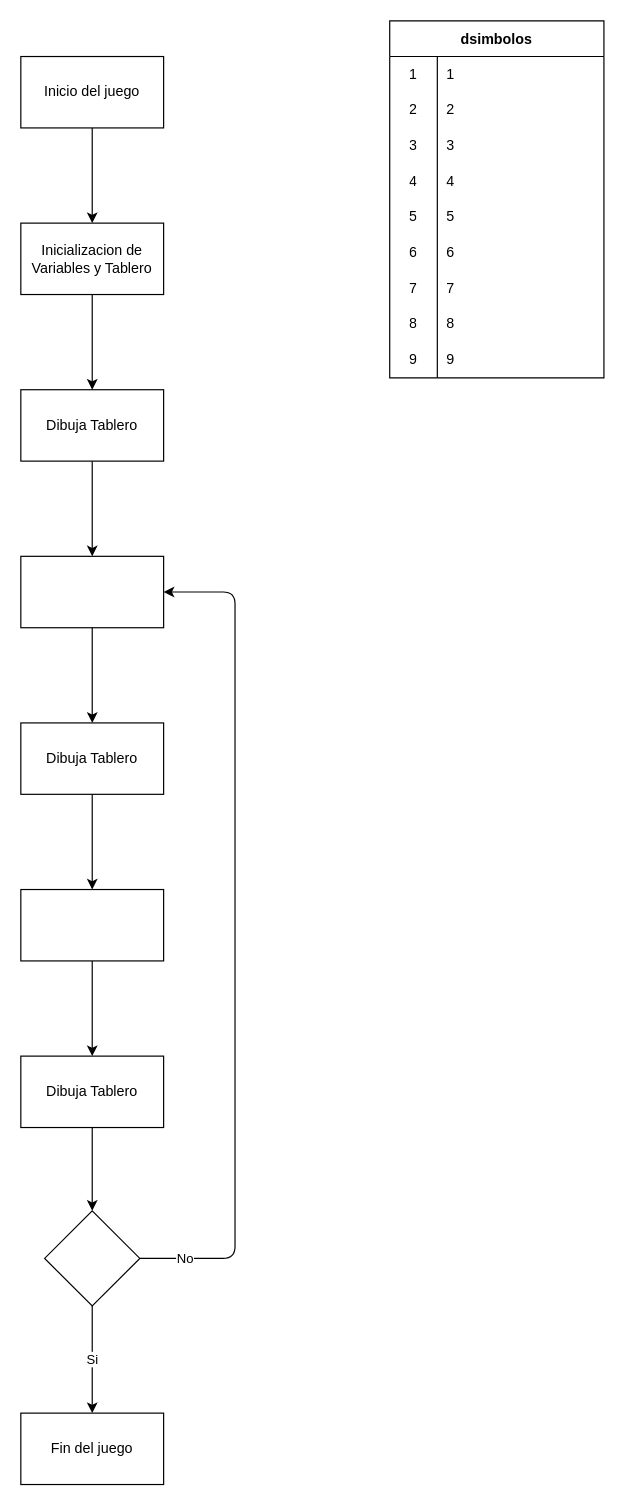
Image size: 625x1505. Some labels were removed from this diagram. Each missing label, with the centre of its shape:
Checar ganador: the point at 91,1258
Turno IA: the point at 92,591
Turno Usuario: the point at 92,924
